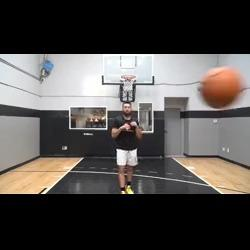BasketBall: (198, 64, 243, 109)
